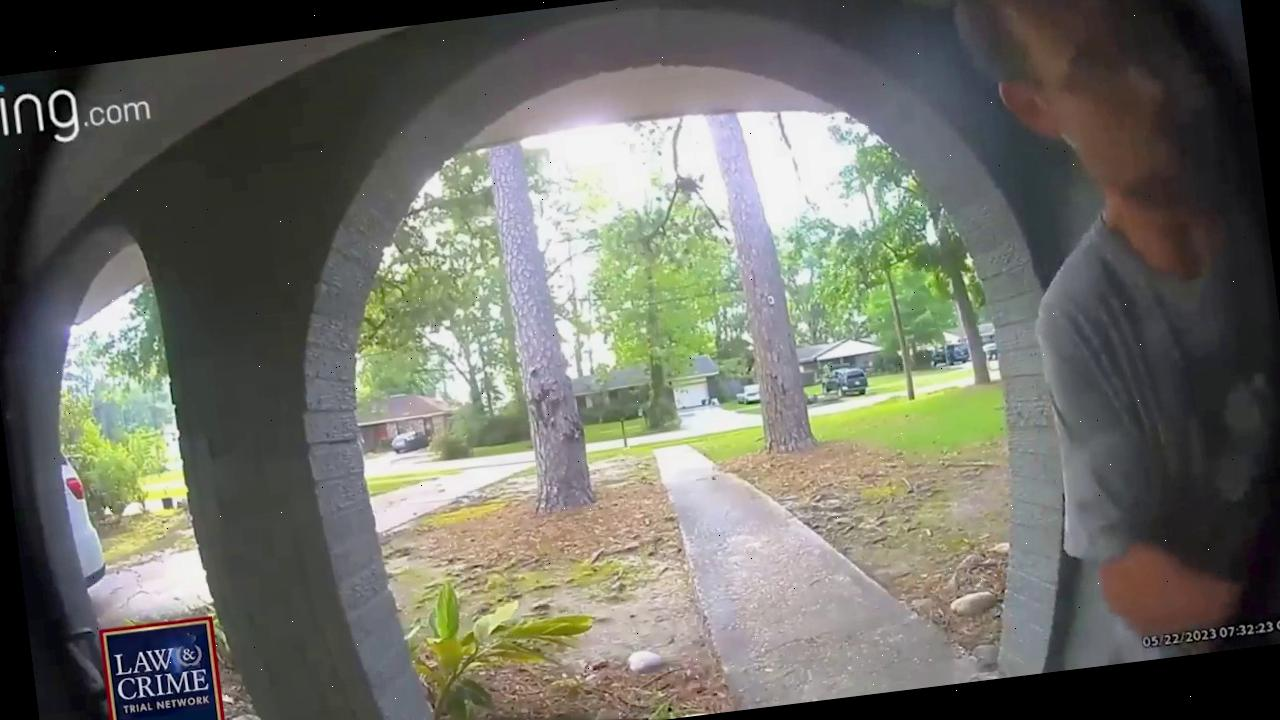suspicion: (880, 0, 1280, 682)
